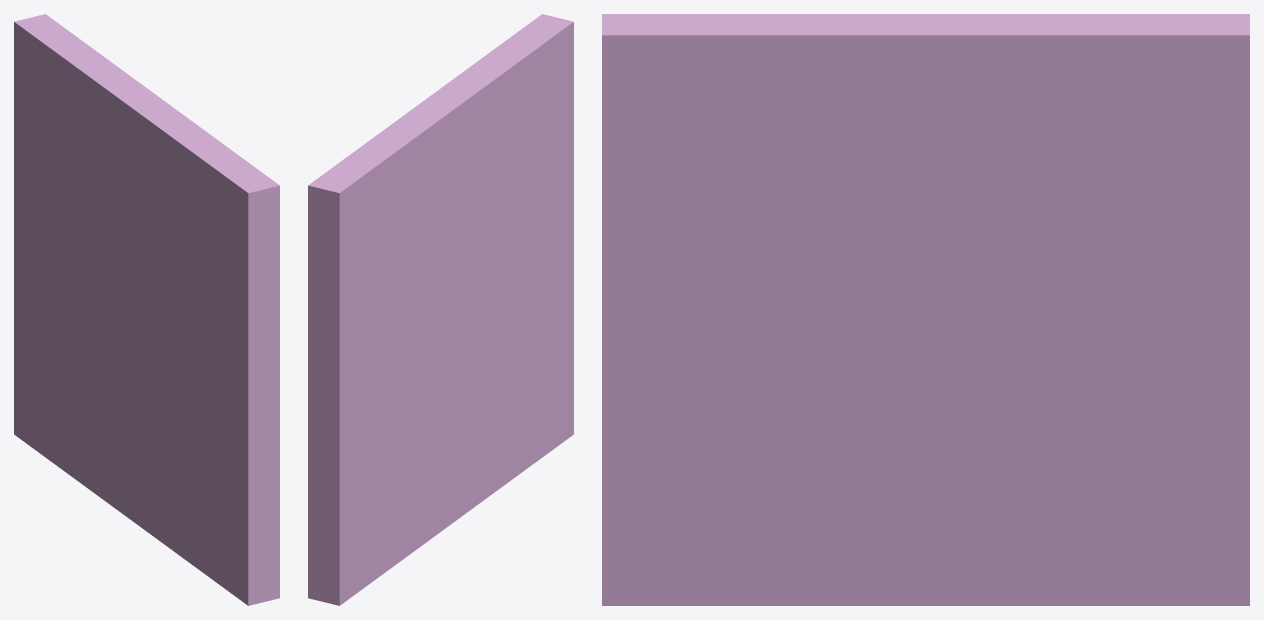
The model's file is Wall_L_5.fbx.
3 renders of one model, left to right at view 1: azimuth 30°, elevation 25°; view 2: azimuth 150°, elevation 25°; view 3: azimuth 270°, elevation 25°, orthographic. The views are drawn at different scales.
Parts seen in each view (by area): view 1: Wall L 5; view 2: Wall L 5; view 3: Wall L 5.
Part boxes in pixels (x1,y1,x2,y2): Wall L 5: (14, 14, 279, 605); Wall L 5: (308, 14, 573, 605); Wall L 5: (602, 14, 1249, 605).
Bounding box in the file's own units: 77.89 × 972 × 1000.
